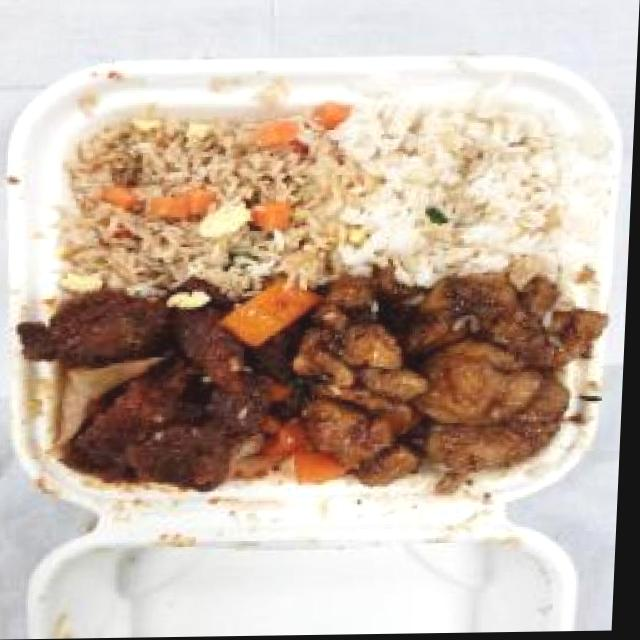Beijing Beef: (18, 279, 315, 496)
Fried Rice: (53, 106, 352, 287)
The Original Orange Chicken: (302, 276, 615, 499)
White Steamed Rice: (333, 106, 579, 284)
